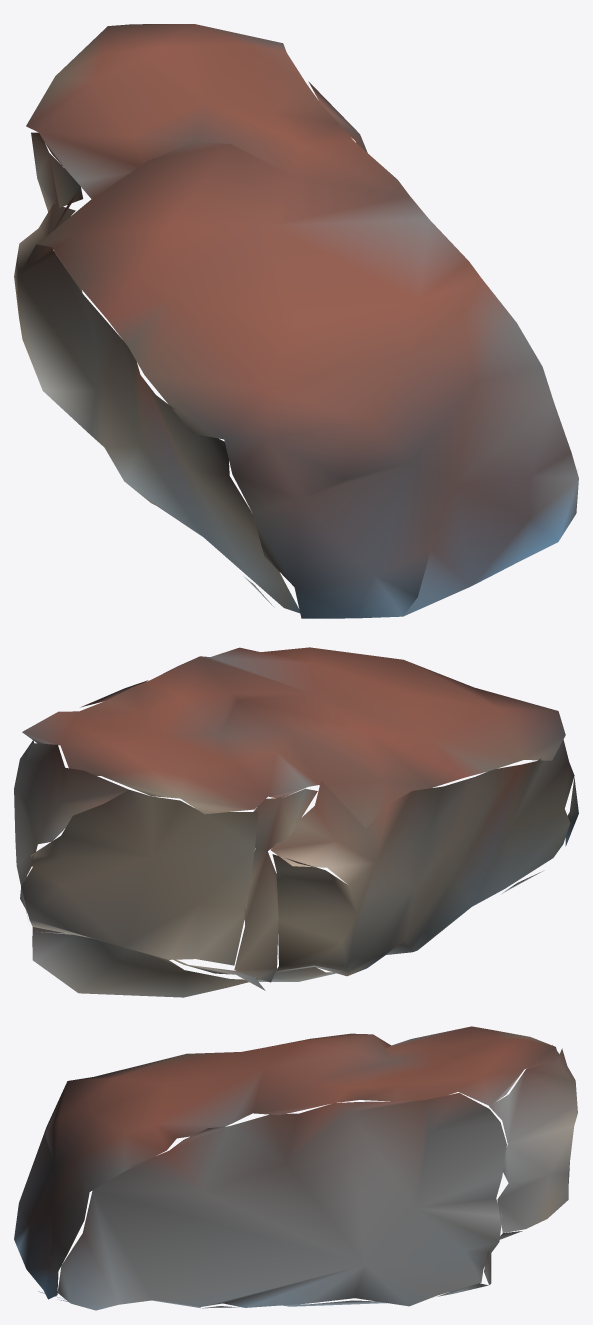
Rendered from rock_rock_07_lod1.glb.
3 renders of one model, top to bottom at view 1: azimuth 30°, elevation 25°; view 2: azimuth 150°, elevation 25°; view 3: azimuth 270°, elevation 25°, orthographic. The views are drawn at different scales.
Visible parts, largest first — view 1: rock_07; view 2: rock_07; view 3: rock_07.
Boxes of the visible parts, x1=… form: rock_07: x1=14, y1=24, x2=578, y2=618; rock_07: x1=14, y1=647, x2=578, y2=997; rock_07: x1=14, y1=1026, x2=577, y2=1310.
Bounding box in the file's own units: 0.1693 × 0.1439 × 0.3198.
